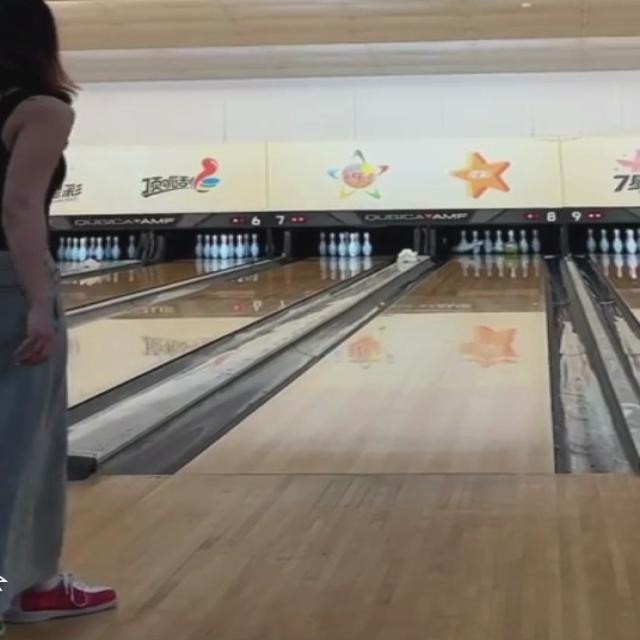alley: (187, 256, 549, 472)
balls: (503, 242, 518, 253)
bottle: (454, 228, 539, 254)
